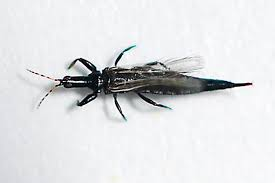Phlaeothripidae: (25, 44, 255, 122)
